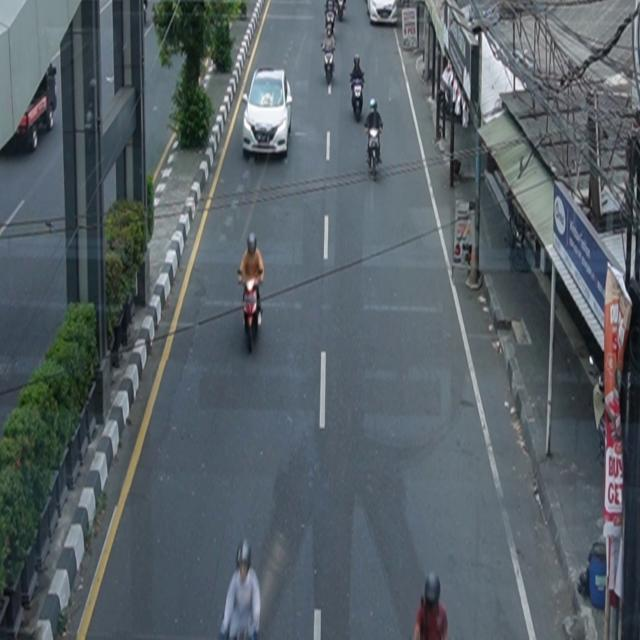car: (243, 67, 293, 159)
